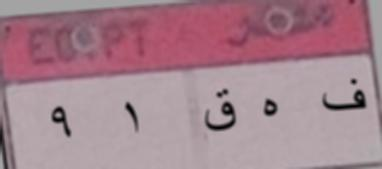1: (120, 96, 149, 137)
9: (49, 104, 76, 142)
faa: (320, 74, 370, 123)
haa: (254, 92, 288, 122)
qaaf: (202, 86, 238, 142)
